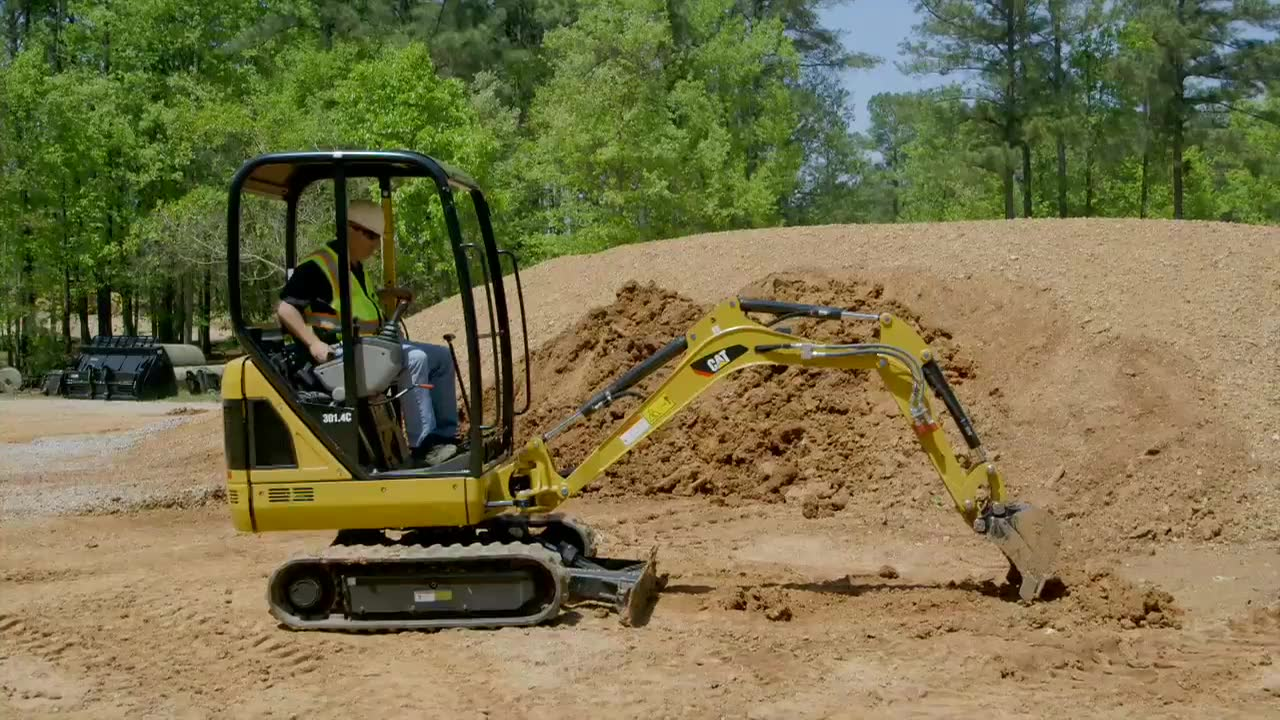attachment-bucket: (975, 494, 1065, 608)
cabin: (218, 147, 534, 523)
forearm: (878, 312, 998, 517)
upperarm: (562, 325, 890, 503)
wheelbase: (258, 512, 594, 626)
